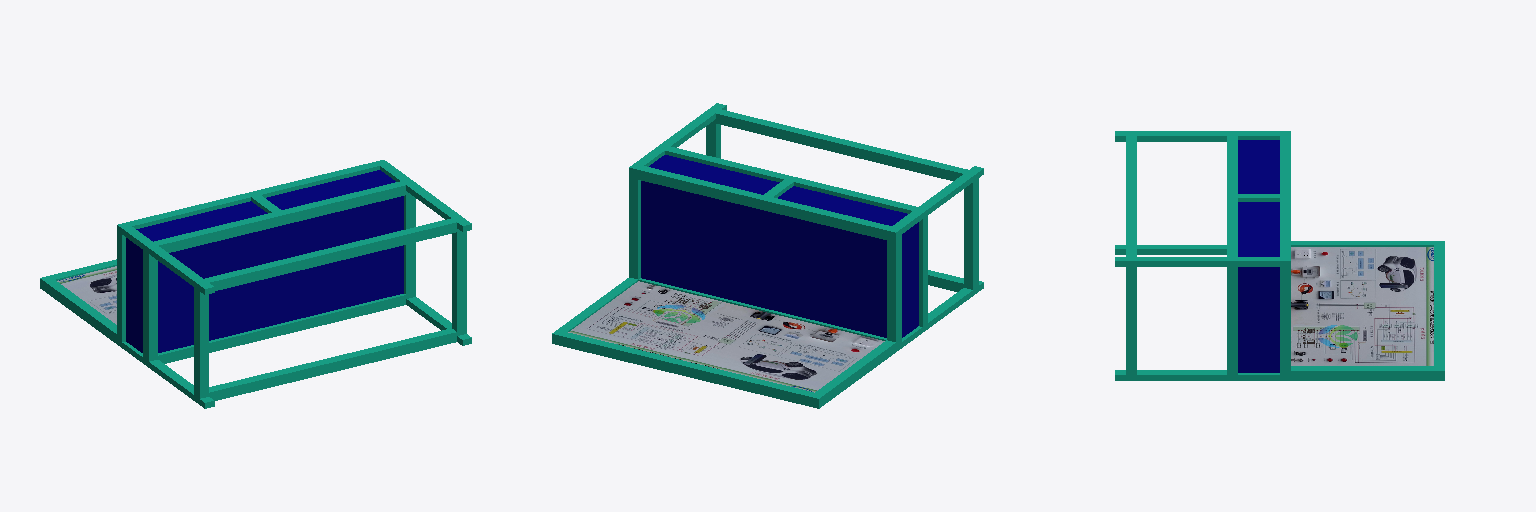
3 views of the same model, side by side, from view 1: azimuth 30°, elevation 25°; view 2: azimuth 150°, elevation 25°; view 3: azimuth 270°, elevation 25° (orthographic).
Visible parts, largest first — view 1: _DC_Brep, Box001; view 2: _DC_Brep, Box001; view 3: _DC_Brep, Box001.
Boxes of the visible parts, x1=… form: _DC_Brep: x1=40, y1=160, x2=471, y2=408; Box001: x1=57, y1=266, x2=116, y2=324; _DC_Brep: x1=552, y1=103, x2=983, y2=408; Box001: x1=568, y1=281, x2=884, y2=392; _DC_Brep: x1=1115, y1=131, x2=1444, y2=380; Box001: x1=1291, y1=247, x2=1433, y2=365.
Bounding box in the file's own units: 1400 × 600 × 1500.
4 materials, 1 textured.